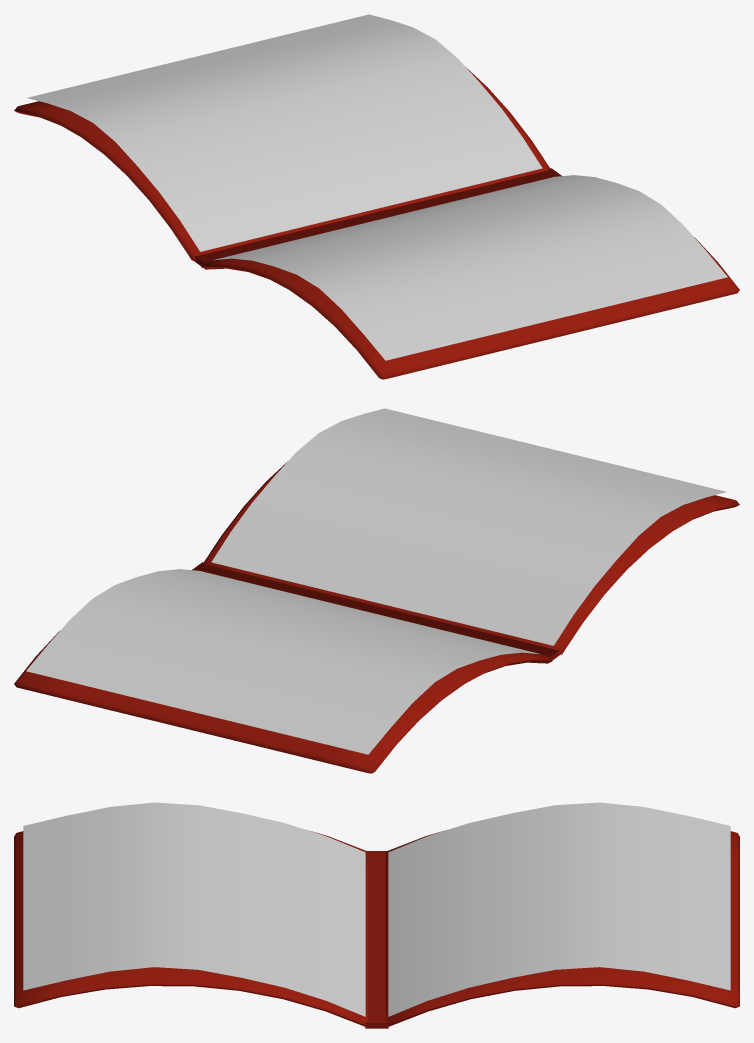
The model's file is Book.fbx.
3 views of the same model, one above another, from view 1: azimuth 30°, elevation 25°; view 2: azimuth 150°, elevation 25°; view 3: azimuth 270°, elevation 25° (orthographic).
Parts seen in each view (by area): view 1: Book; view 2: Book; view 3: Book.
Boxes of the visible parts, bbox=[...] form: Book: bbox=[14, 14, 739, 379]; Book: bbox=[14, 408, 739, 773]; Book: bbox=[14, 802, 739, 1028].
Bounding box in the file's own units: 16 × 2.48 × 28.29.
